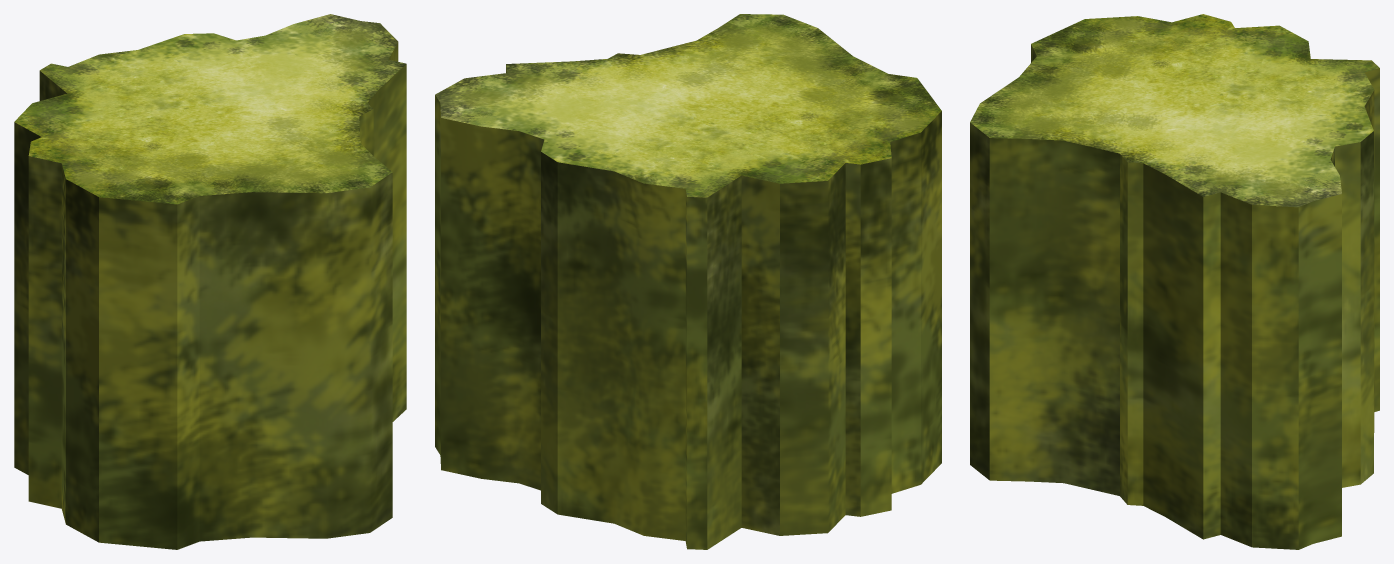
The model's file is island.fbx.
The picture shows the model from 3 angles, left to right: view 1: azimuth 30°, elevation 25°; view 2: azimuth 150°, elevation 25°; view 3: azimuth 270°, elevation 25°; orthographic projection. The views are drawn at different scales.
Visible parts, largest first — view 1: island; view 2: island; view 3: island.
Part boxes in pixels (x1=…): island: x1=14, y1=14, x2=406, y2=549; island: x1=435, y1=14, x2=941, y2=549; island: x1=970, y1=14, x2=1379, y2=549.
Bounding box in the file's own units: 110 × 91.25 × 98.95.
